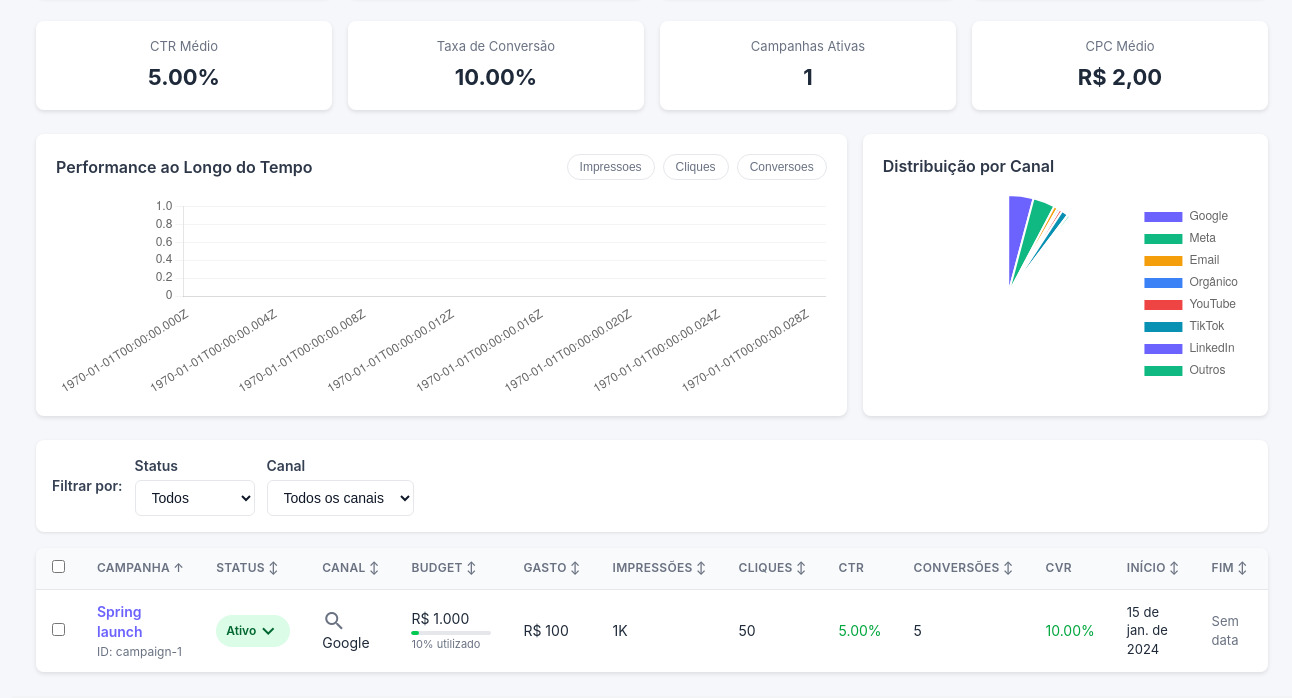
Test: Dashboard › filters campaigns by channel
(page scrolled)
Expected: the text "Spring launch" is shown, [97,602,143,640]
Select "Email" in the 2nd dropdown showing "Todos os canais": [340, 498] box [266,480,414,516]
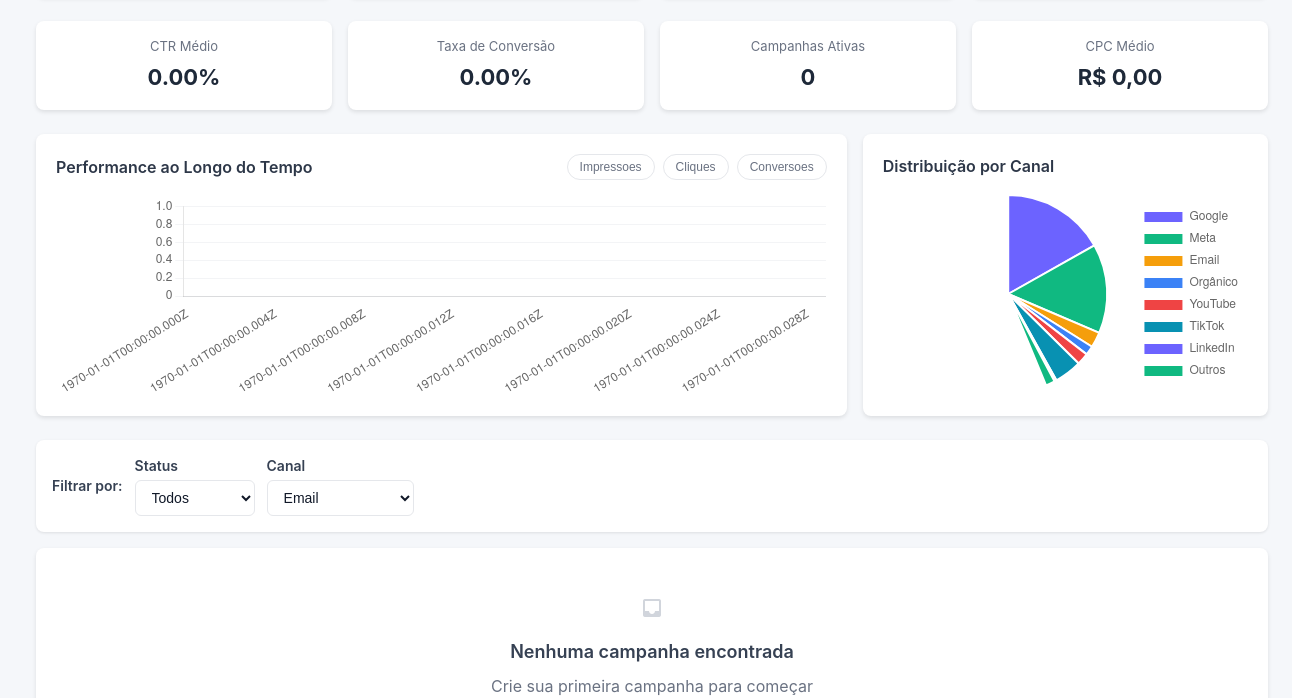
Result: the heading "Nenhuma campanha encontrada" is shown at [510,640,794,662]
Select "Todos os canais" in the 2nd dropdown showing "Email": [340, 498] box [266,480,414,516]
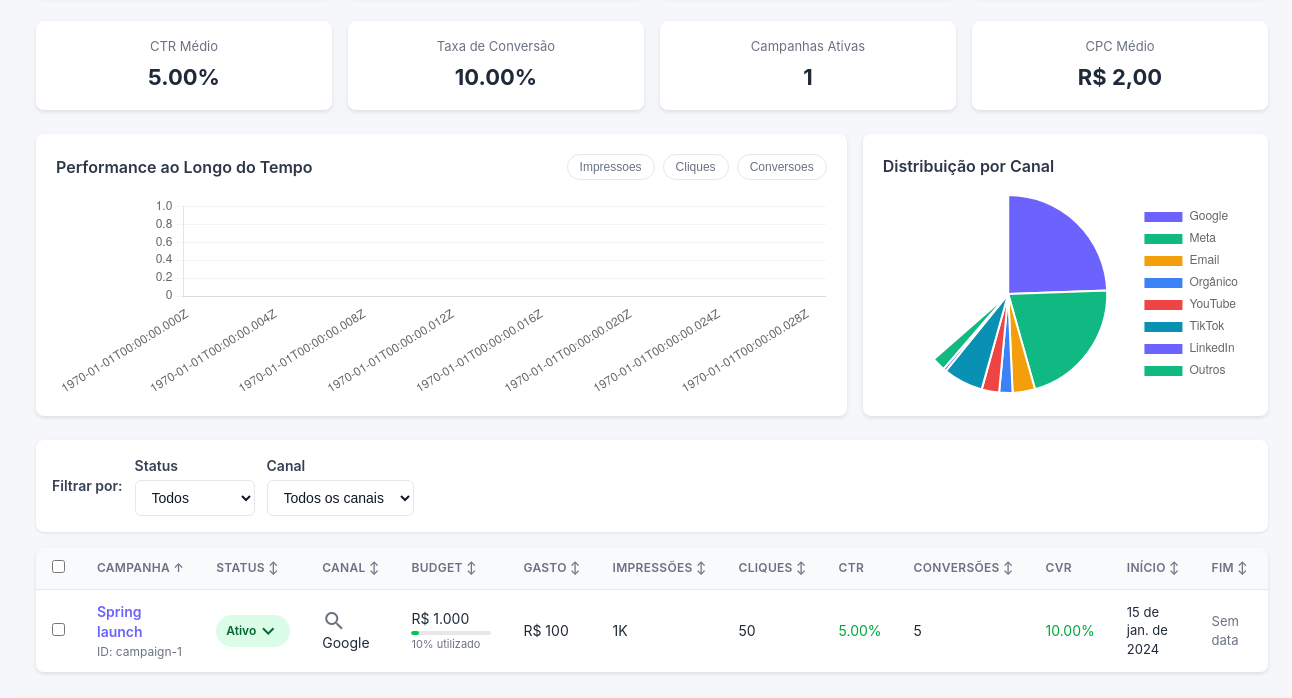
Result: the text "Spring launch" is shown at [97,602,143,640]
